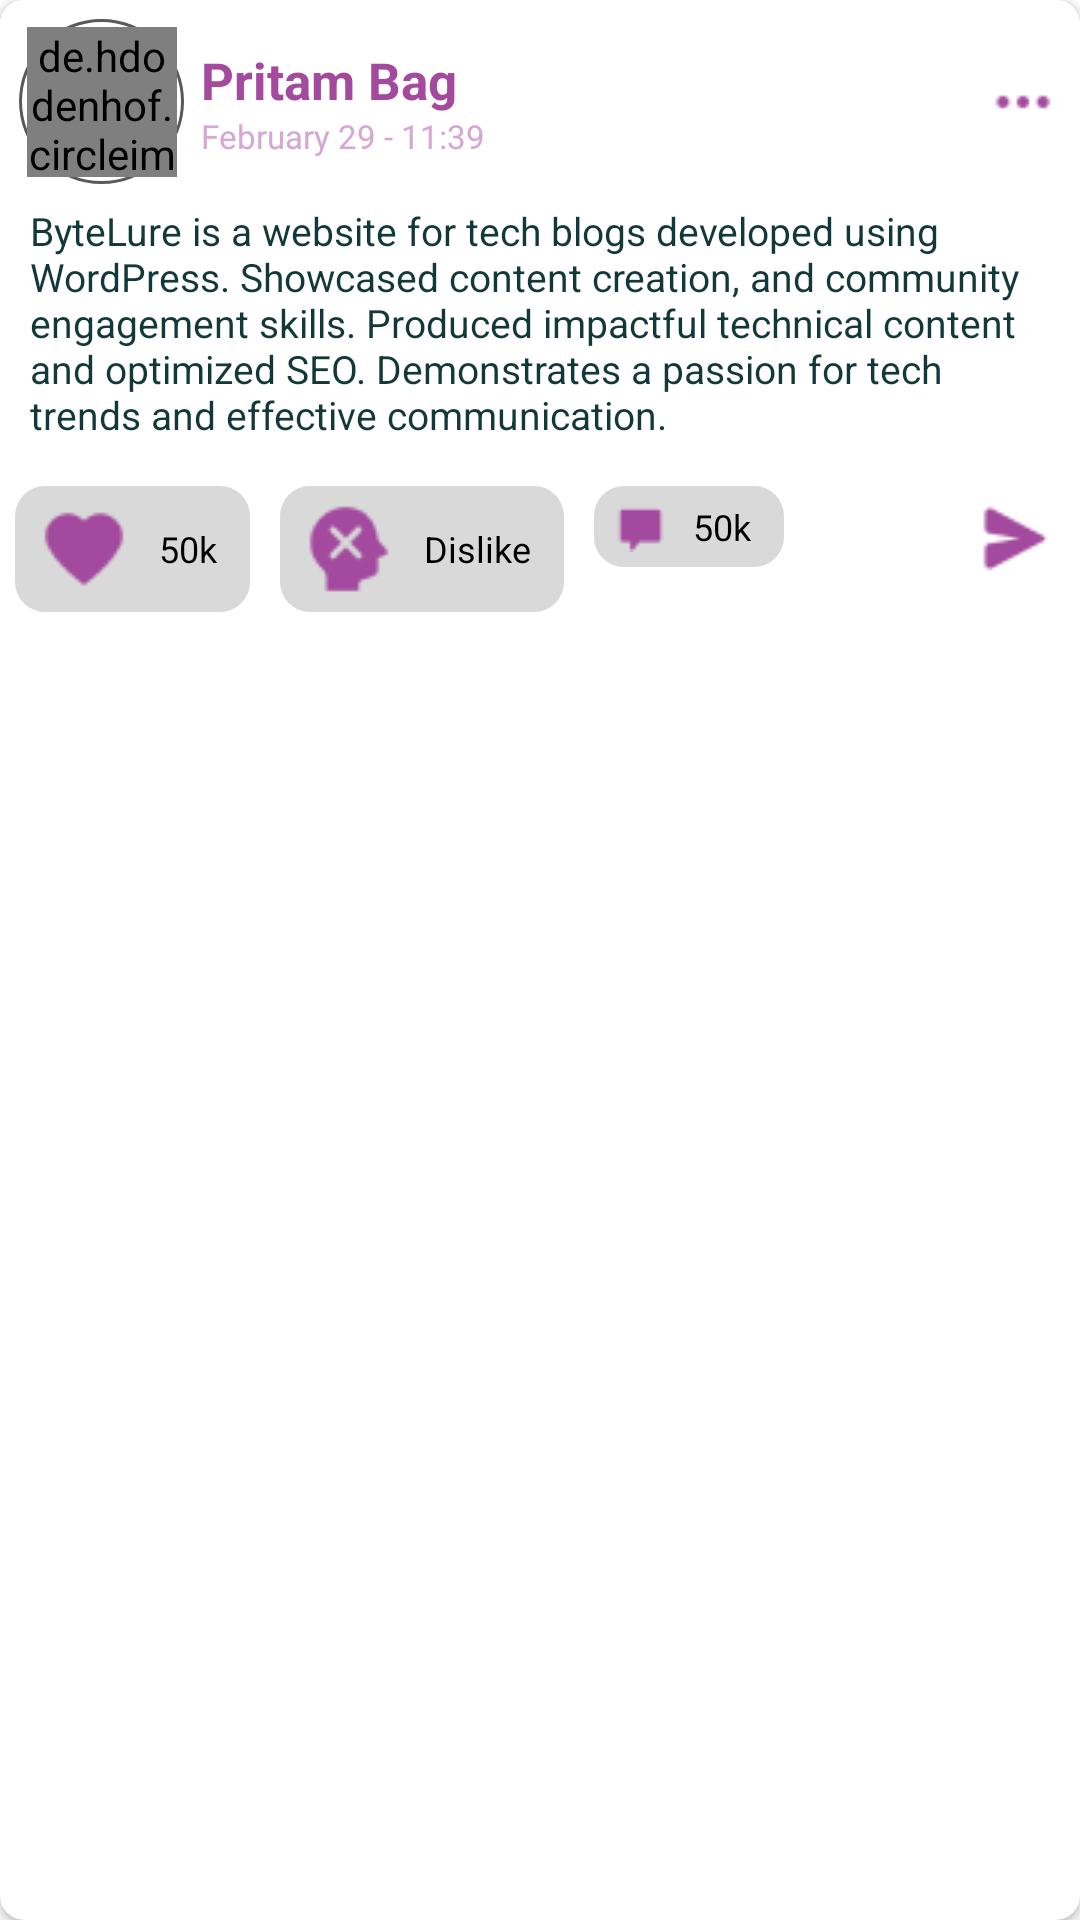

Icon click points for this 1080 × 1920 phone screenshot, format (x=x, y=y):
comments: (x=640, y=530)
disapprove: (x=349, y=549)
love: (x=84, y=549)
post more: (x=1023, y=102)
share: (x=1015, y=538)
